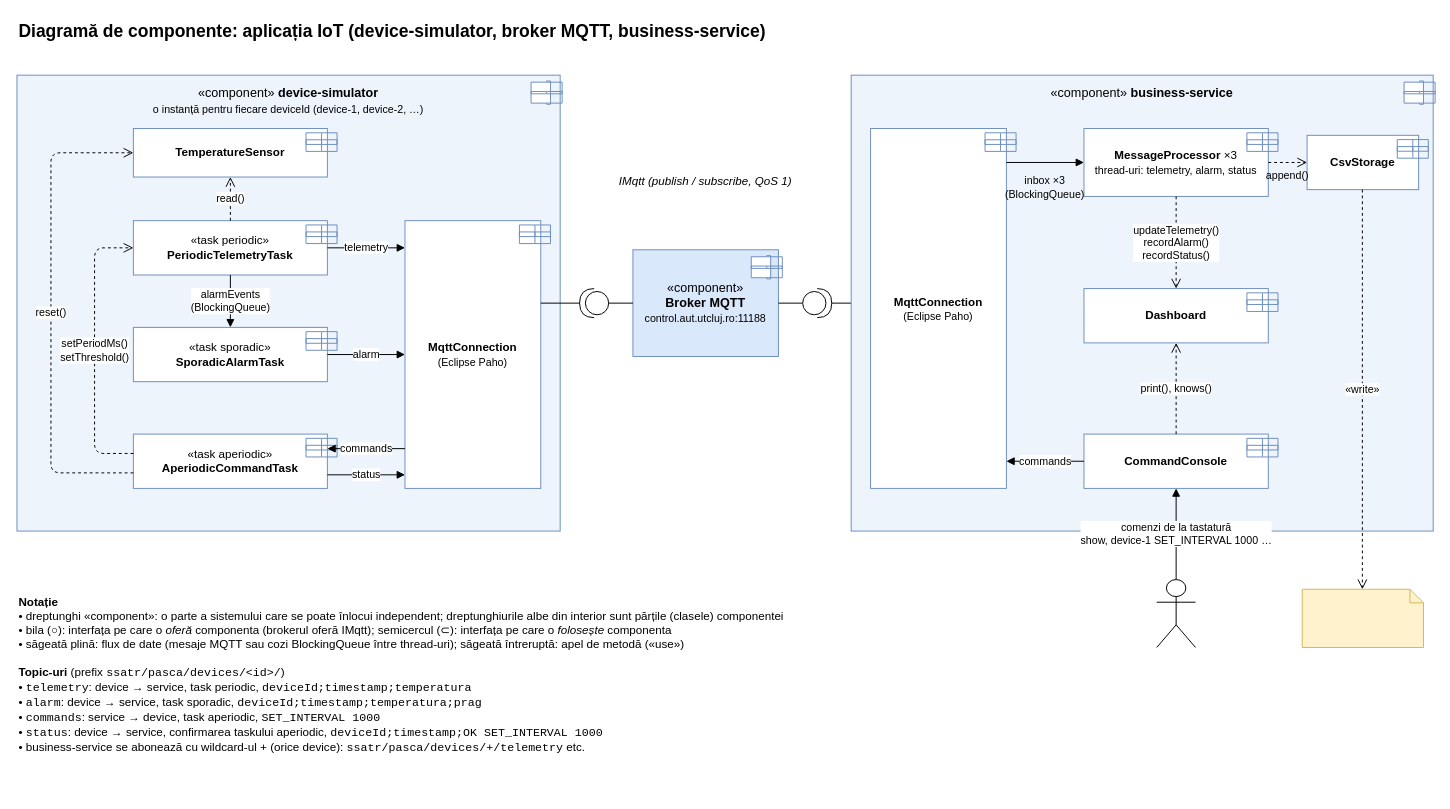
The diagram is 1450 pixels wide and 809 high, and some of its shapes have lost their labels. Each missing label, with the centre of its shape:
Operator: the point at 1176,613
«artifact» data/*.csv: the point at 1362,617
